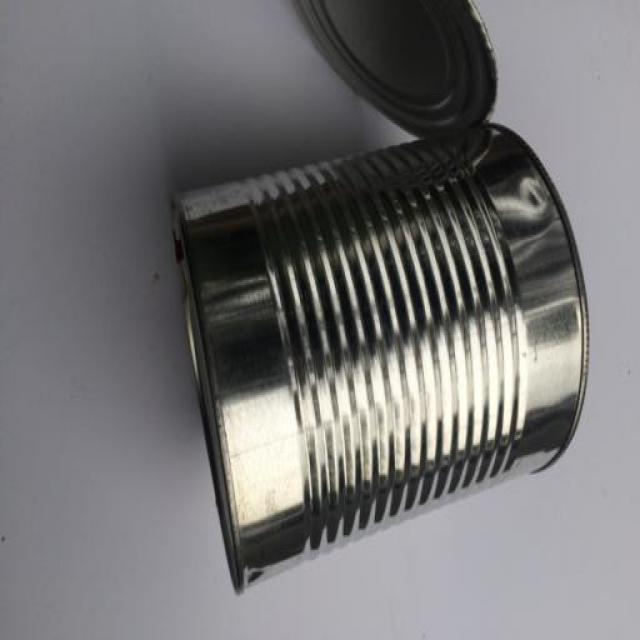metal: (165, 0, 591, 602)
